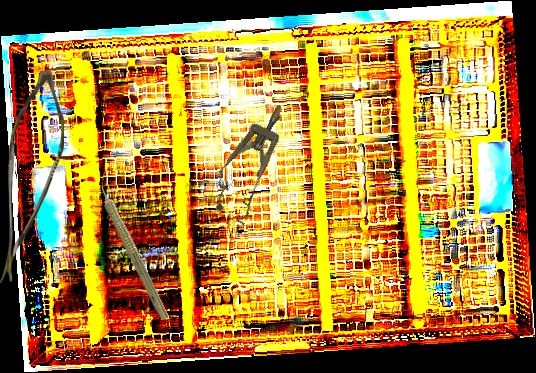Handpiece: (89, 172, 175, 322)
Micro Scissor: (0, 71, 64, 285)
Speculum: (202, 94, 302, 227)
